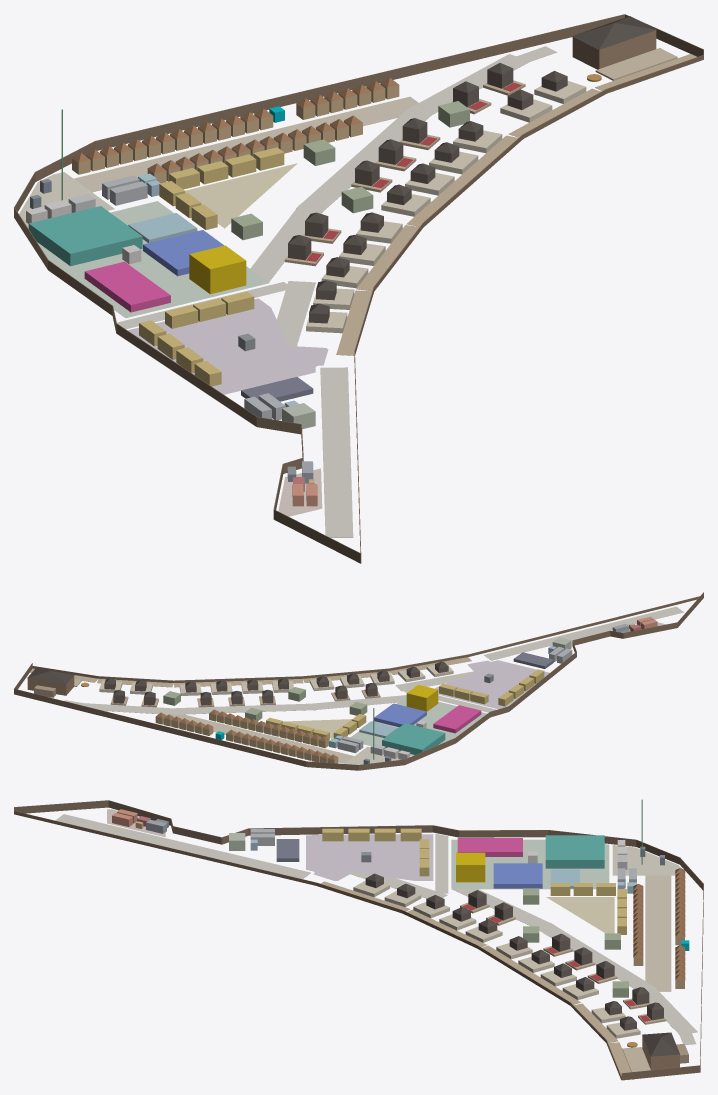
The model's file is AquaCamp_GreenIsland_Massing.glb.
The picture shows the model from 3 angles, top to bottom: view 1: azimuth 30°, elevation 25°; view 2: azimuth 150°, elevation 25°; view 3: azimuth 270°, elevation 25°; orthographic projection. The views are drawn at different scales.
Parts seen in each view (by area): view 1: 0178_audience_AUDIENCE, 0214_obj, 0011_lane_, 0171_funzone_GAMES, 0172_inf_maze_MAZE_18x18, 0009_spine_BOULEVARD_8_m, 0170_seating_SHADED_SEATING, 0174_inf_soccer_BUMPERBALL_20x10, 0006_lane_, 0177_inflatable_SLIDE, 0173_inf_bumpercars_BUMPER_CARS_15x15, 0007_lane_ (+15 smaller); view 2: 0178_audience_AUDIENCE, 0214_obj, 0011_lane_, 0172_inf_maze_MAZE_18x18, 0171_funzone_GAMES, 0009_spine_BOULEVARD_8_m, 0006_lane_, 0173_inf_bumpercars_BUMPER_CARS_15x15, 0174_inf_soccer_BUMPERBALL_20x10, 0226_obj, 0177_inflatable_SLIDE, 0007_lane_ (+16 smaller); view 3: 0178_audience_AUDIENCE, 0009_spine_BOULEVARD_8_m, 0171_funzone_GAMES, 0011_lane_, 0172_inf_maze_MAZE_18x18, 0170_seating_SHADED_SEATING, 0173_inf_bumpercars_BUMPER_CARS_15x15, 0226_obj, 0012_plaza_ENTRANCE_PLAZA, 0174_inf_soccer_BUMPERBALL_20x10, 0006_lane_, 0177_inflatable_SLIDE (+14 smaller).
Part boxes in pixels (left/top/right/bottom): 0178_audience_AUDIENCE: left=128, top=298, right=328, bottom=394; 0214_obj: left=95, top=14, right=624, bottom=150; 0011_lane_: left=320, top=367, right=353, bottom=537; 0171_funzone_GAMES: left=37, top=201, right=269, bottom=318; 0172_inf_maze_MAZE_18x18: left=28, top=206, right=142, bottom=266; 0009_spine_BOULEVARD_8_m: left=74, top=96, right=424, bottom=192; 0170_seating_SHADED_SEATING: left=185, top=163, right=297, bottom=228; 0174_inf_soccer_BUMPERBALL_20x10: left=84, top=261, right=170, bottom=312; 0006_lane_: left=296, top=109, right=432, bottom=211; 0177_inflatable_SLIDE: left=189, top=245, right=246, bottom=294; 0173_inf_bumpercars_BUMPER_CARS_15x15: left=143, top=230, right=223, bottom=276; 0007_lane_: left=250, top=204, right=325, bottom=282; 0178_audience_AUDIENCE: left=435, top=660, right=549, bottom=709; 0214_obj: left=14, top=688, right=306, bottom=766; 0011_lane_: left=484, top=606, right=683, bottom=660; 0172_inf_maze_MAZE_18x18: left=382, top=723, right=445, bottom=754; 0171_funzone_GAMES: left=350, top=696, right=486, bottom=756; 0009_spine_BOULEVARD_8_m: left=165, top=711, right=354, bottom=763; 0006_lane_: left=170, top=703, right=315, bottom=714; 0173_inf_bumpercars_BUMPER_CARS_15x15: left=374, top=703, right=426, bottom=727; 0174_inf_soccer_BUMPERBALL_20x10: left=433, top=705, right=481, bottom=733; 0226_obj: left=468, top=596, right=699, bottom=656; 0177_inflatable_SLIDE: left=406, top=685, right=438, bottom=711; 0007_lane_: left=308, top=695, right=406, bottom=710; 0178_audience_AUDIENCE: left=306, top=834, right=433, bottom=880; 0009_spine_BOULEVARD_8_m: left=645, top=875, right=671, bottom=991; 0171_funzone_GAMES: left=451, top=839, right=609, bottom=889; 0011_lane_: left=55, top=814, right=310, bottom=879; 0172_inf_maze_MAZE_18x18: left=545, top=835, right=604, bottom=868; 0170_seating_SHADED_SEATING: left=546, top=897, right=614, bottom=933; 0173_inf_bumpercars_BUMPER_CARS_15x15: left=493, top=863, right=542, bottom=888; 0226_obj: left=14, top=811, right=316, bottom=885; 0012_plaza_ENTRANCE_PLAZA: left=612, top=845, right=680, bottom=875; 0174_inf_soccer_BUMPERBALL_20x10: left=457, top=838, right=522, bottom=856; 0006_lane_: left=539, top=922, right=653, bottom=988; 0177_inflatable_SLIDE: left=456, top=852, right=485, bottom=882.
Size of the model in its own units: 198 by 22 by 211.
